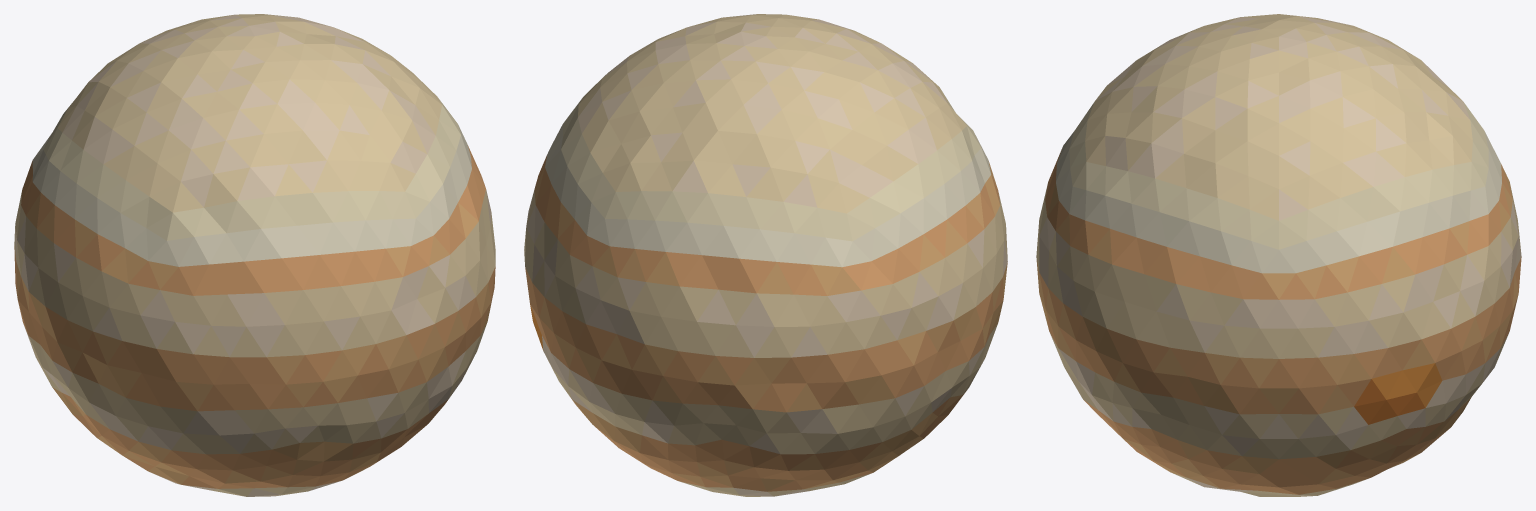
File: JupiterLowPoly.fbx
3 renders of one model, left to right at view 1: azimuth 30°, elevation 25°; view 2: azimuth 150°, elevation 25°; view 3: azimuth 270°, elevation 25°, orthographic.
Parts seen in each view (by area): view 1: Icosphere; view 2: Icosphere; view 3: Icosphere.
Part boxes in pixels (<box>): Icosphere: <box>14,14,495,496</box>; Icosphere: <box>524,14,1007,496</box>; Icosphere: <box>1036,14,1521,496</box>.
Bounding box in the file's own units: 1021 × 1017 × 1021.
